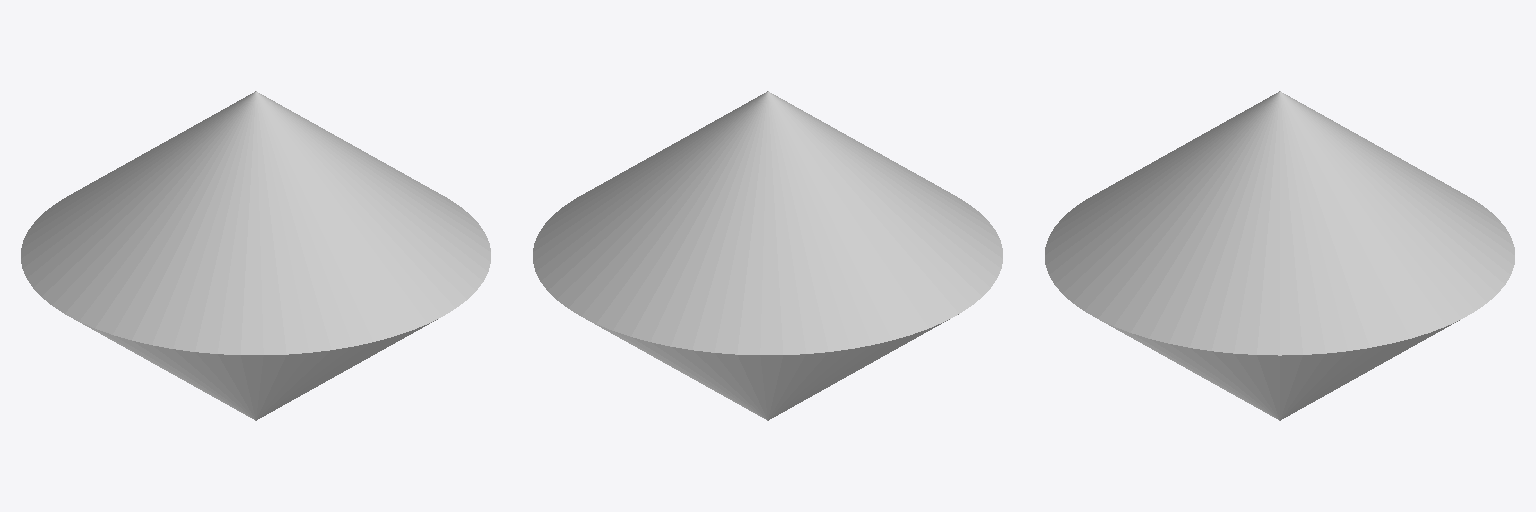
Rendered from Sky_CONE.obj.
The picture shows the model from 3 angles: view 1: azimuth 30°, elevation 25°; view 2: azimuth 150°, elevation 25°; view 3: azimuth 270°, elevation 25°; orthographic projection.
Parts seen in each view (by area): view 1: Sky_CONE.LWO; view 2: Sky_CONE.LWO; view 3: Sky_CONE.LWO.
Part boxes in pixels (x1,y1,x2,y2): Sky_CONE.LWO: (21, 91, 490, 420); Sky_CONE.LWO: (533, 91, 1002, 420); Sky_CONE.LWO: (1045, 91, 1514, 420).
Bounding box in the file's own units: 80 × 61.78 × 80.